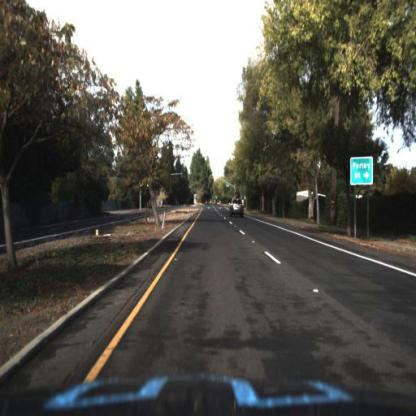car: (230, 196, 247, 220)
